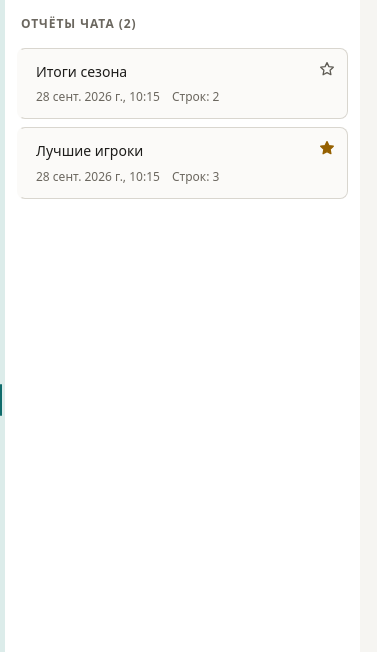
Test: ReportsPanel preview › opens the preview with title and parameters from a card and returns with «К списку»
expect the heading "Отчёты чата (2)" is shown: met, box [21,16,137,32]
Step 1. Click the button "Итоги сезона" → (82, 71), box [20,49,311,118]
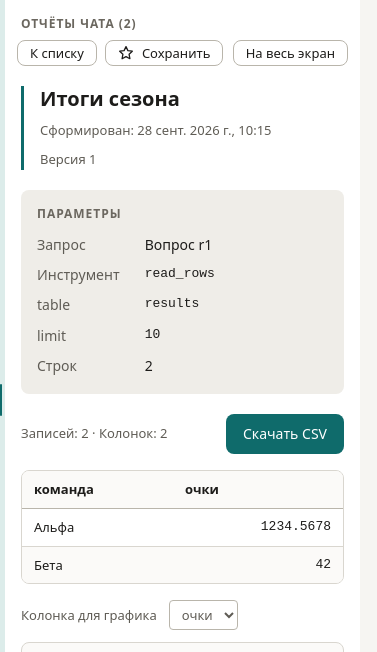
expect the heading "Параметры" is shown: met, box [37,205,122,222]
expect the text "Вопрос r1" is shown: met, box [145,235,212,254]
expect the text "results" is shown: met, box [145,296,199,312]
Step 2. Click the button "К списку" → (57, 53), box [17,40,97,66]
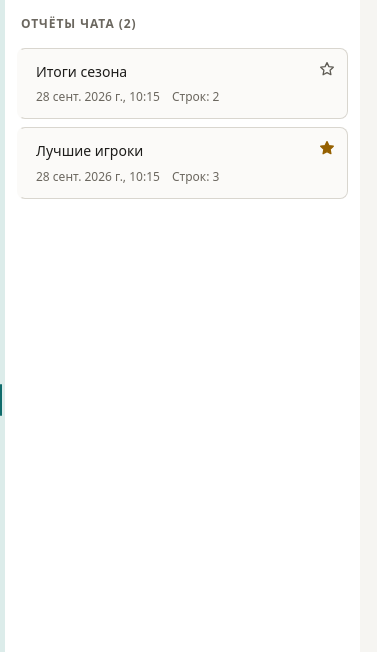
expect the button "Итоги сезона" is shown: met, box [20,49,311,118]
expect the heading "Параметры" is gone: met
